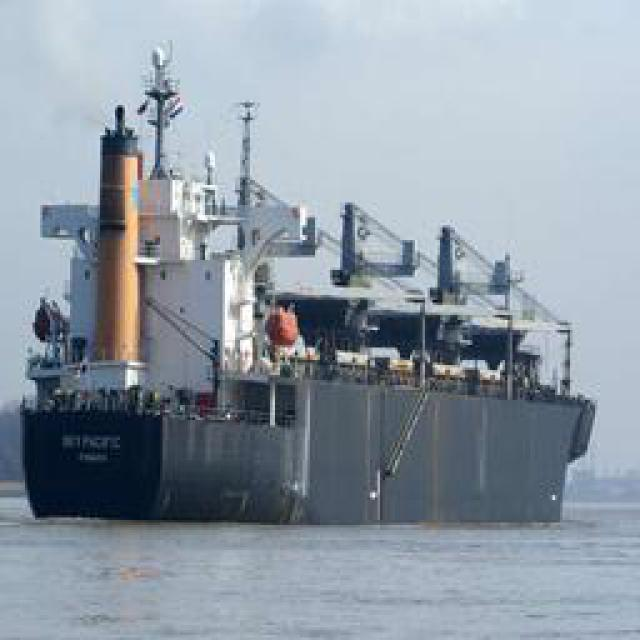Ship: (6, 42, 604, 545)
